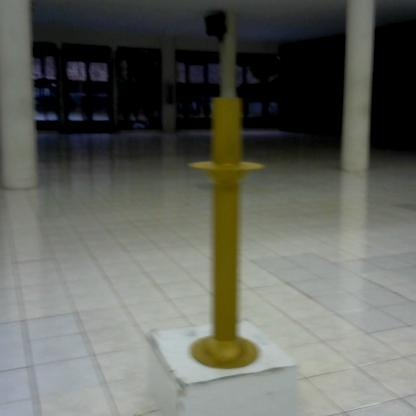pole: (187, 90, 269, 377)
